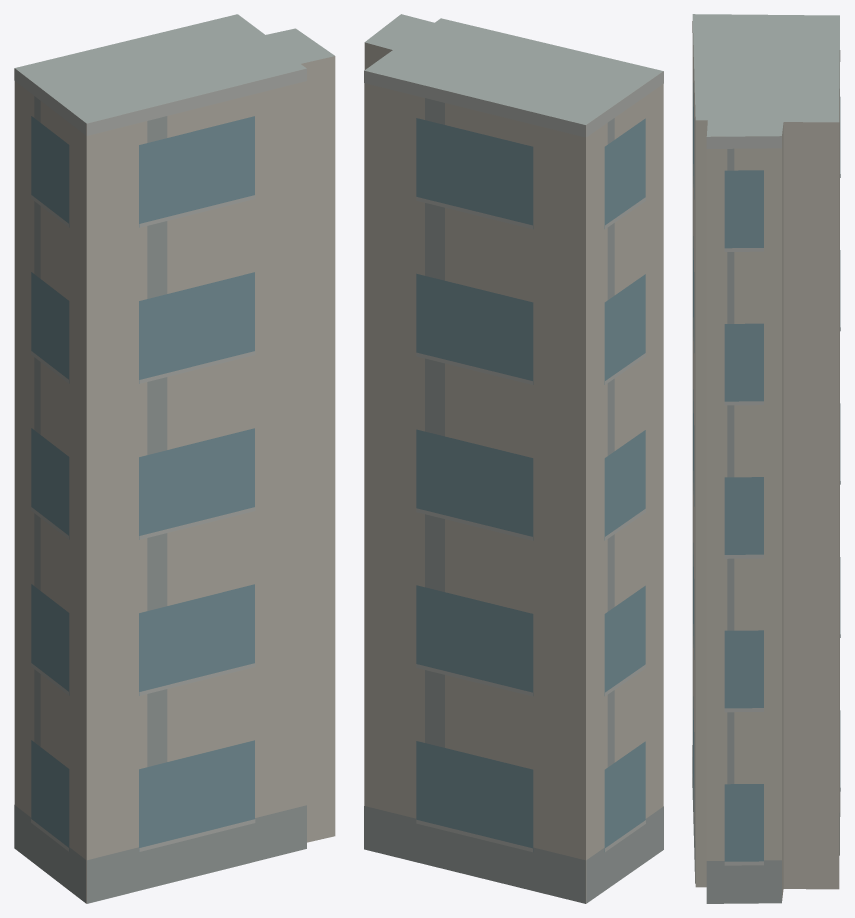
File: survey-upis-32666378.glb
The picture shows the model from 3 angles, left to right: view 1: azimuth 30°, elevation 25°; view 2: azimuth 150°, elevation 25°; view 3: azimuth 270°, elevation 25°; orthographic projection.
Visible parts, largest first — view 1: survey-upis-32666378.tmp; view 2: survey-upis-32666378.tmp; view 3: survey-upis-32666378.tmp.
Part boxes in pixels (x1,y1,x2,y2): survey-upis-32666378.tmp: (14, 14, 335, 903); survey-upis-32666378.tmp: (364, 14, 663, 903); survey-upis-32666378.tmp: (692, 14, 840, 903).
Bounding box in the file's own units: 5.25 × 15.25 × 2.67.
